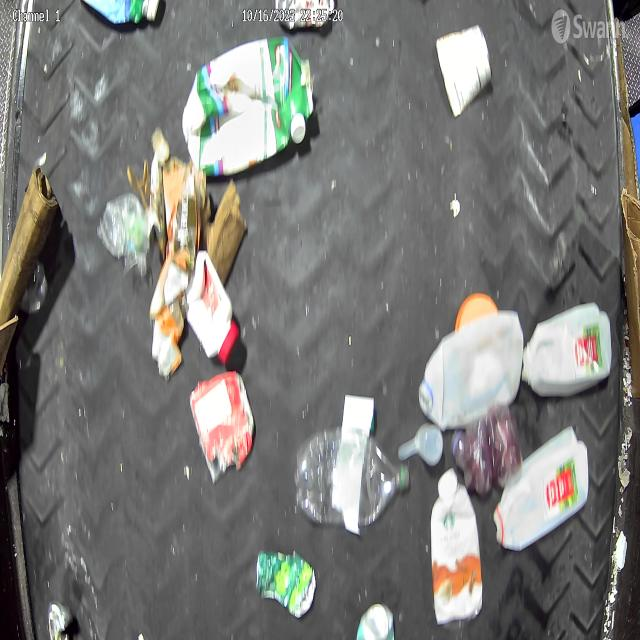can: (190, 372, 255, 482), (254, 547, 316, 618), (354, 600, 396, 640), (44, 596, 76, 640)
milk_jug: (493, 425, 592, 555), (420, 310, 525, 430), (525, 302, 616, 399)
non_white_jug: (181, 35, 314, 176)
plastic_bottle: (294, 427, 415, 537)
